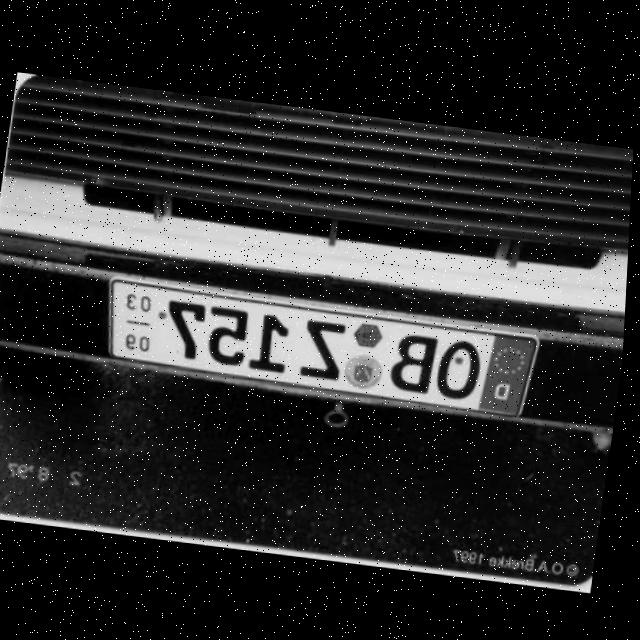license-plates: (107, 278, 537, 416)
